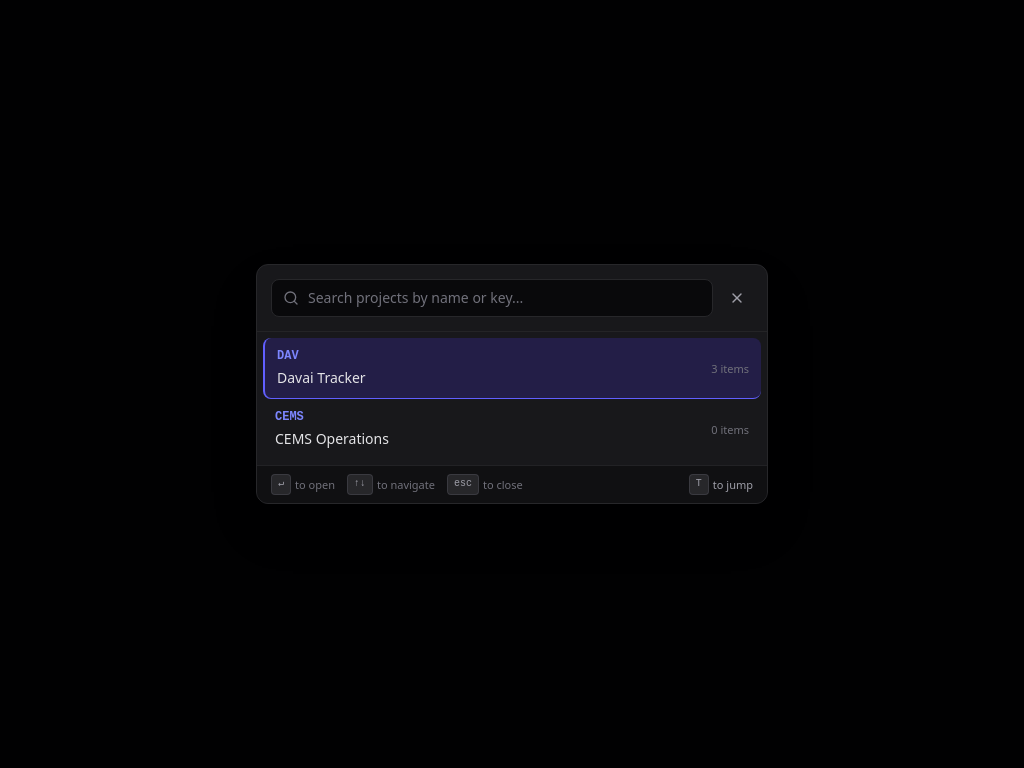
Test: ProjectJumpModal › filters by project key, case-insensitively
Type "cems" into the field with test id "project-jump-input" at (492,298), box 271,279 -> 713,317
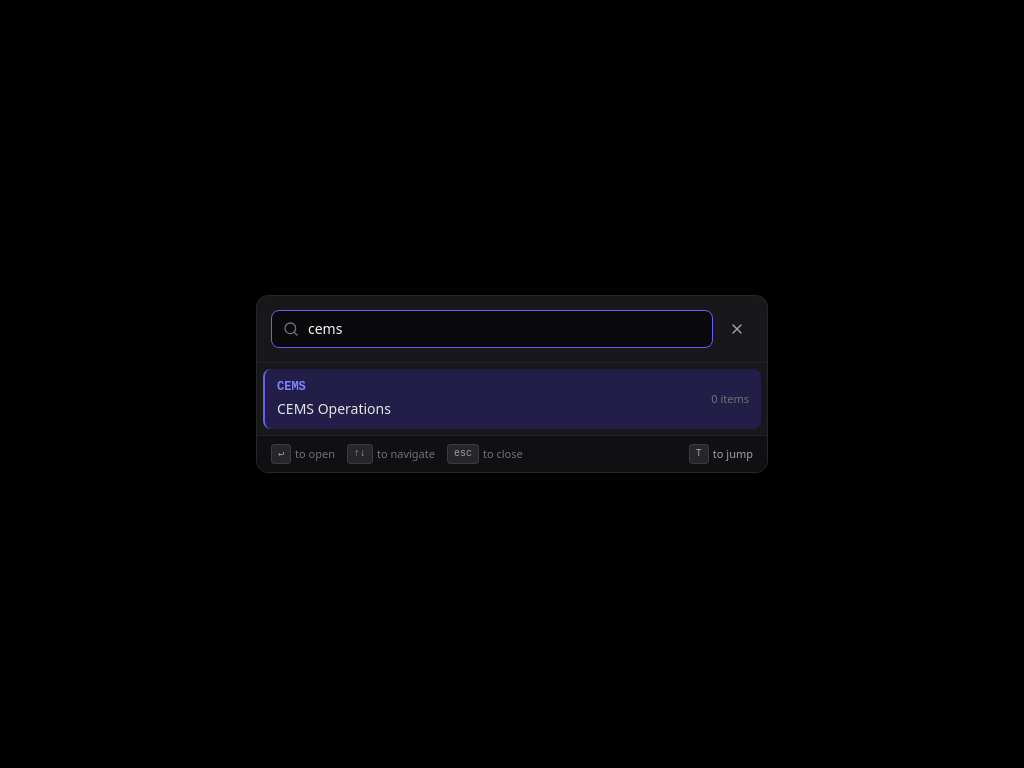
Expected: the element with test id "project-jump-item-CEMS" is shown, 263,369 -> 761,429
Expected: the element with test id "project-jump-item-DAV" is gone
